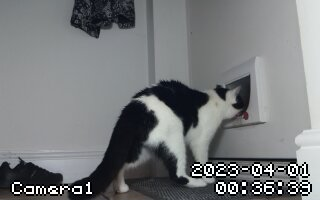bad: (62, 79, 259, 198)
